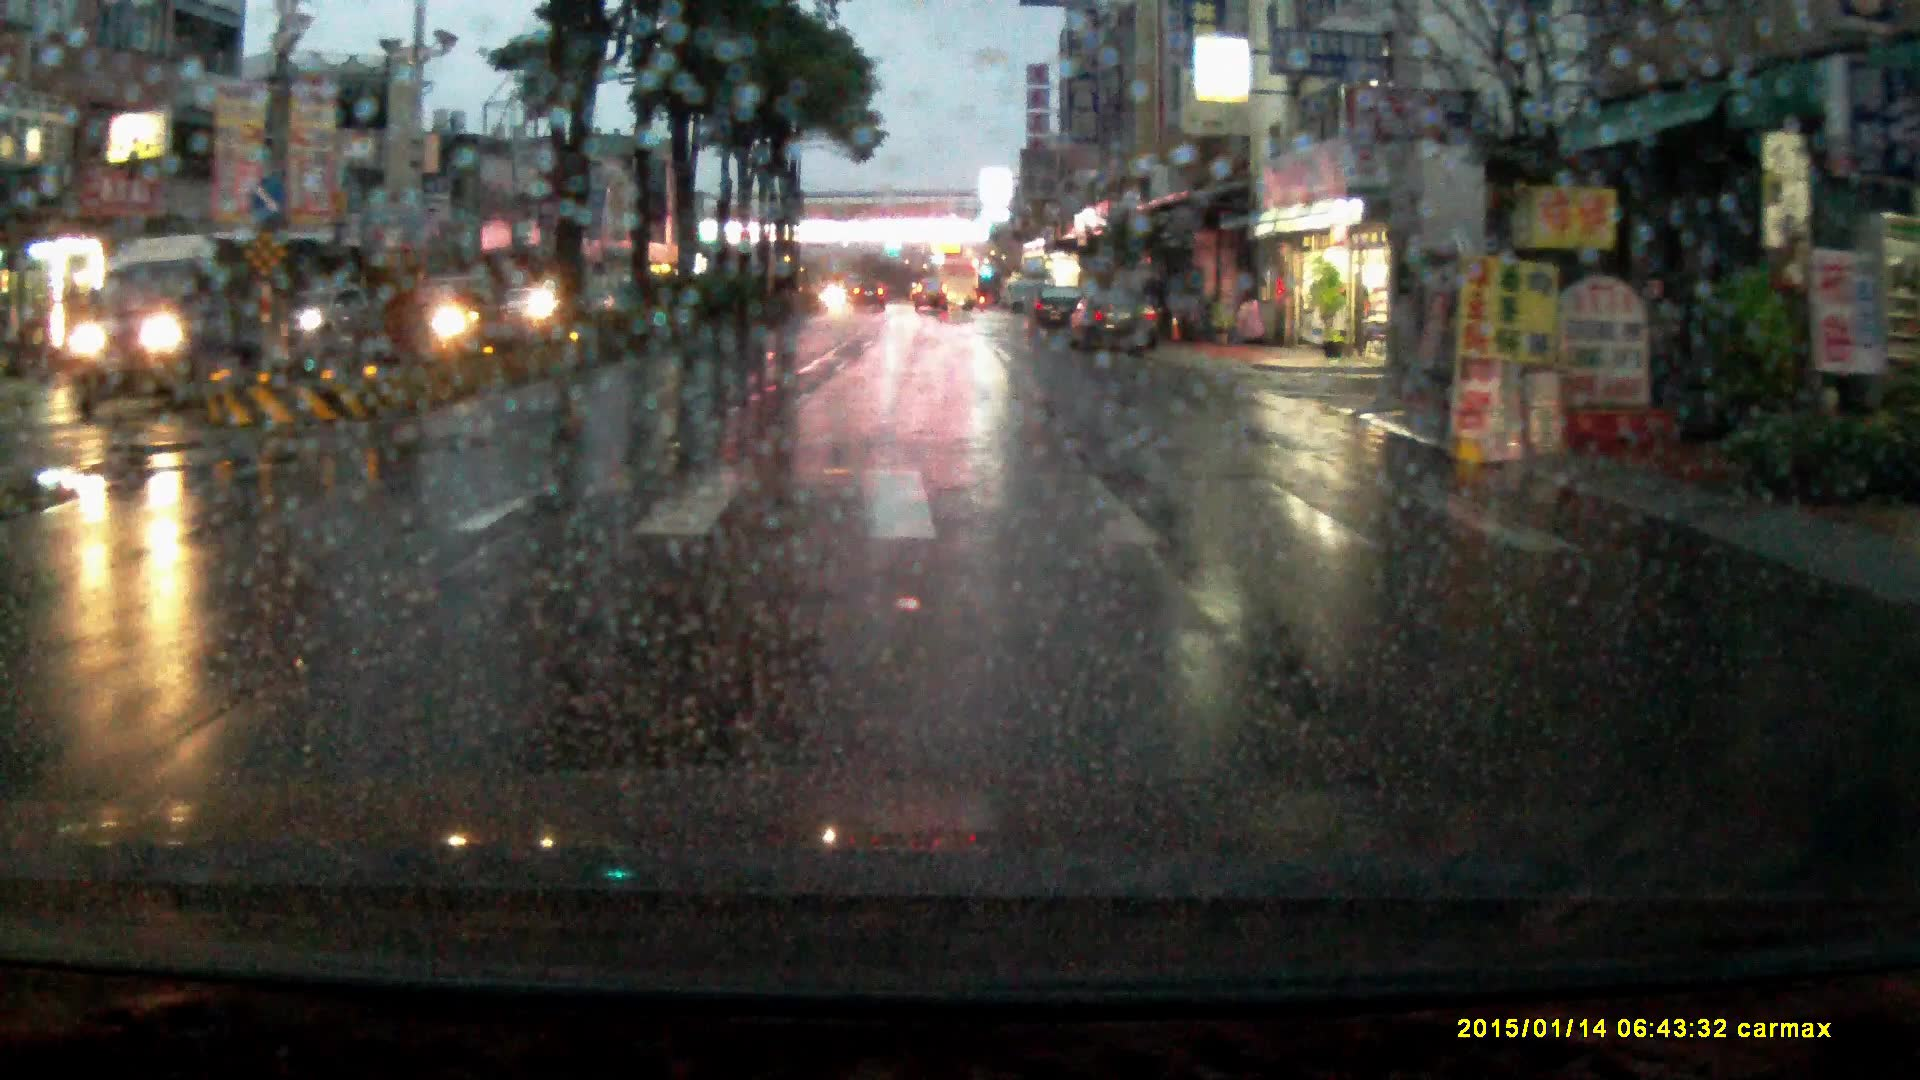vehicle: (71, 229, 335, 415), (375, 276, 516, 355), (1065, 286, 1163, 357), (291, 287, 382, 348), (1027, 285, 1084, 336), (934, 260, 980, 318), (916, 277, 952, 316), (852, 282, 889, 314)
